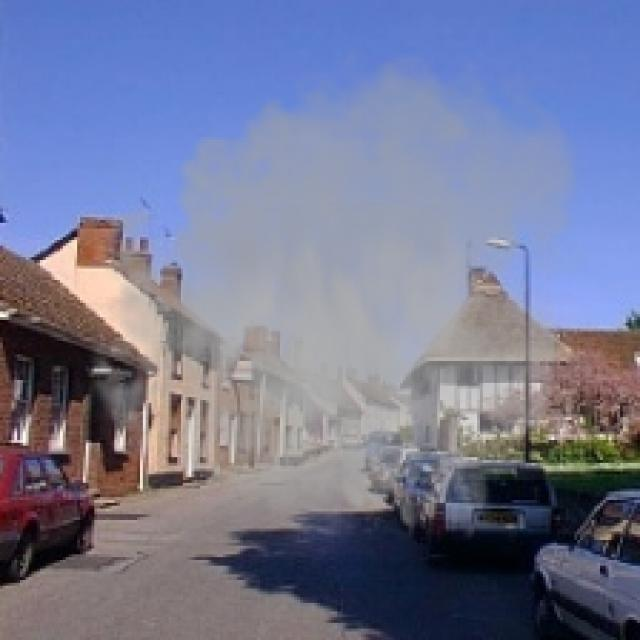smoke: (74, 37, 592, 574)
